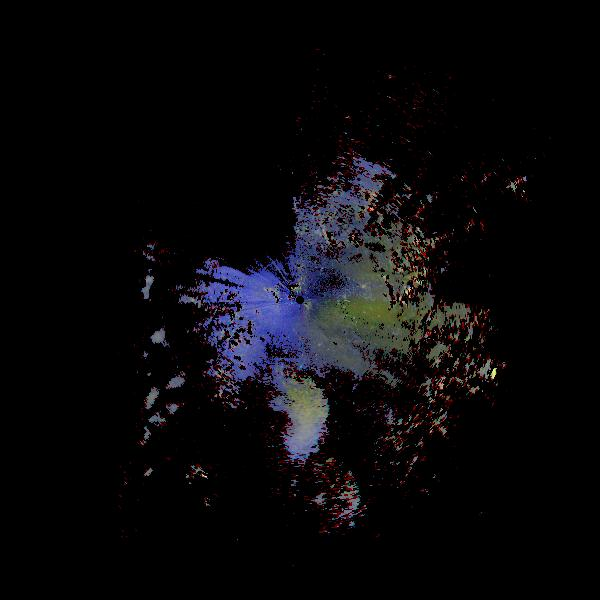roost: (263, 390, 329, 456)
